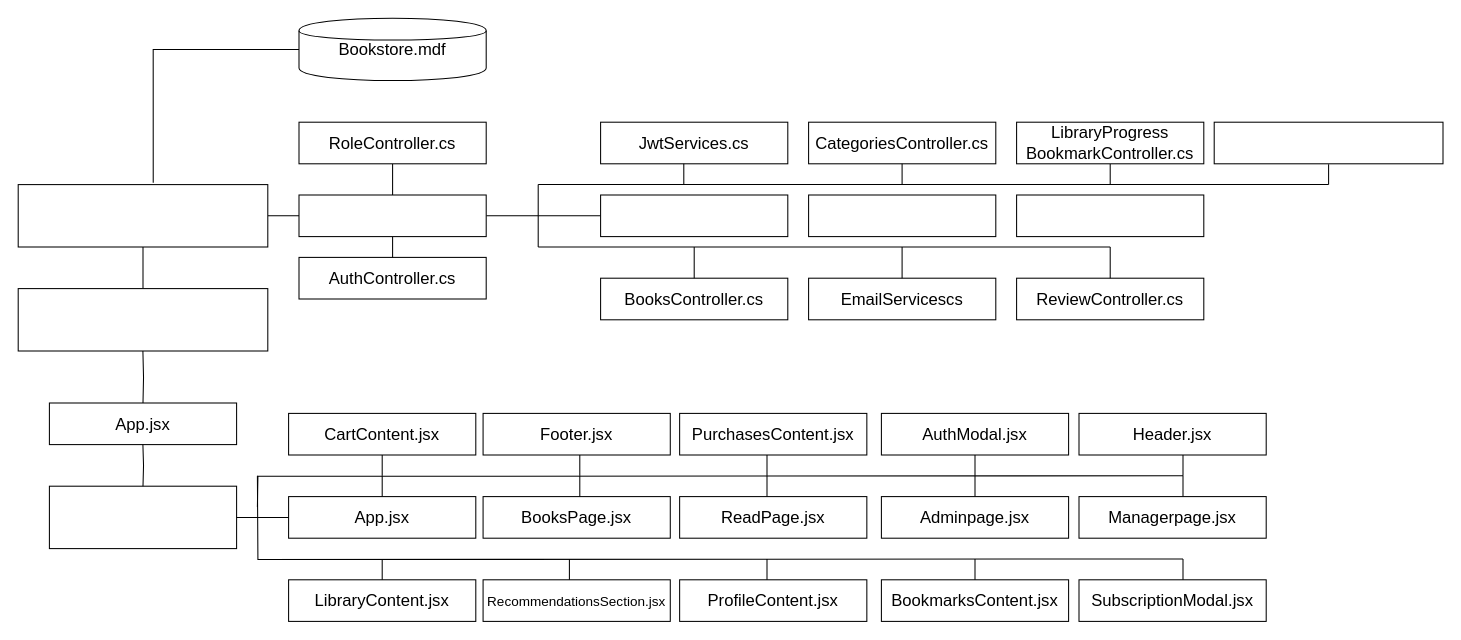
Image size: 1461x640. Some labels were removed from this diagram. Each missing label, with the centre of its shape:
"Booksapi (ASP.NET Core Web API)" belongs at point 142,215.
"Booksberry.html (Веб-приложение)" belongs at point 142,319.
"Controllers" belongs at point 392,215.
"Dtos.cs" belongs at point 902,215.
"pages (Страницы)" belongs at point 142,517.
"PurchaseDeliverings.cs" belongs at point 1110,215.
"SubscriptionPlansController.cs" belongs at point 1328,142.
"UserControllers.cs" belongs at point 694,215.
